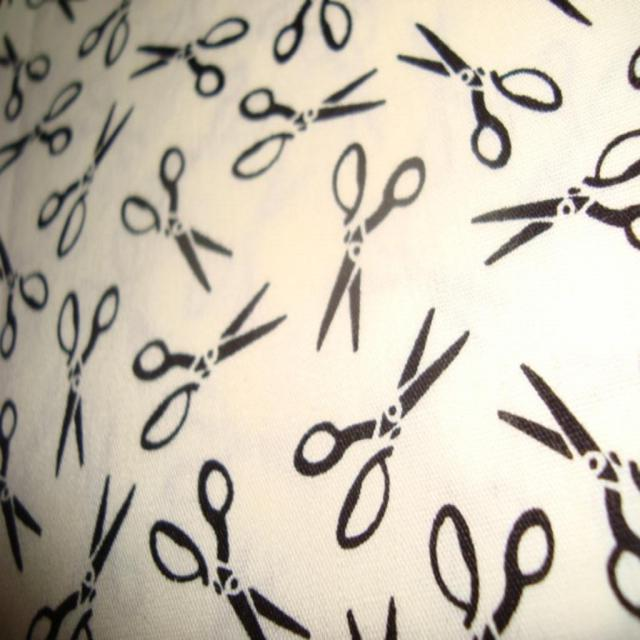scissor: (293, 306, 470, 546), (495, 360, 639, 620), (148, 458, 311, 638), (132, 283, 288, 453), (394, 22, 562, 172), (314, 140, 422, 352), (471, 133, 639, 268), (28, 475, 138, 639), (234, 64, 386, 178), (122, 148, 235, 291), (38, 100, 136, 260), (57, 282, 121, 474), (125, 16, 250, 93), (0, 82, 83, 176), (0, 403, 42, 577), (0, 236, 51, 357), (1, 29, 51, 119), (79, 0, 129, 65)
